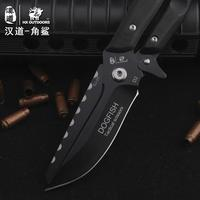knife: (39, 1, 169, 196)
